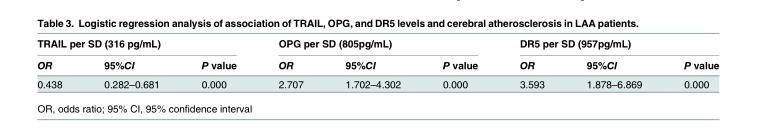table: (36, 36, 718, 89)
table column: (323, 36, 421, 89), (564, 36, 662, 89), (82, 36, 179, 89), (179, 36, 256, 89), (421, 36, 498, 89), (256, 36, 323, 89), (498, 36, 564, 89), (662, 36, 718, 89), (36, 36, 82, 89)
table column header: (36, 36, 718, 74)
table row: (36, 53, 718, 74), (36, 36, 718, 53), (36, 74, 718, 89)
table spanning cell: (256, 36, 498, 53), (36, 36, 256, 53), (498, 36, 718, 53)
